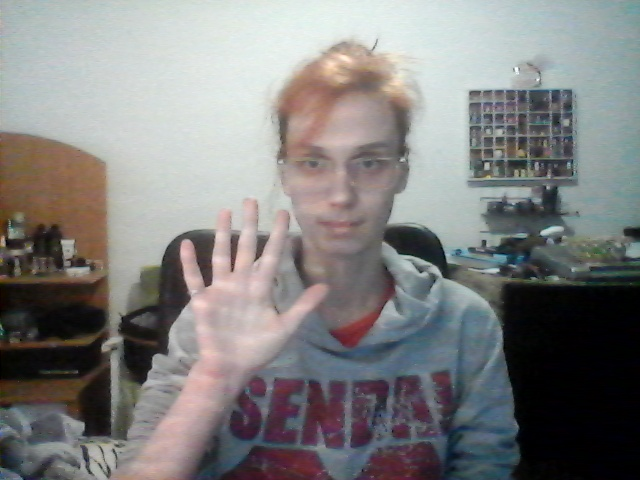ahoj: (163, 197, 337, 377)
